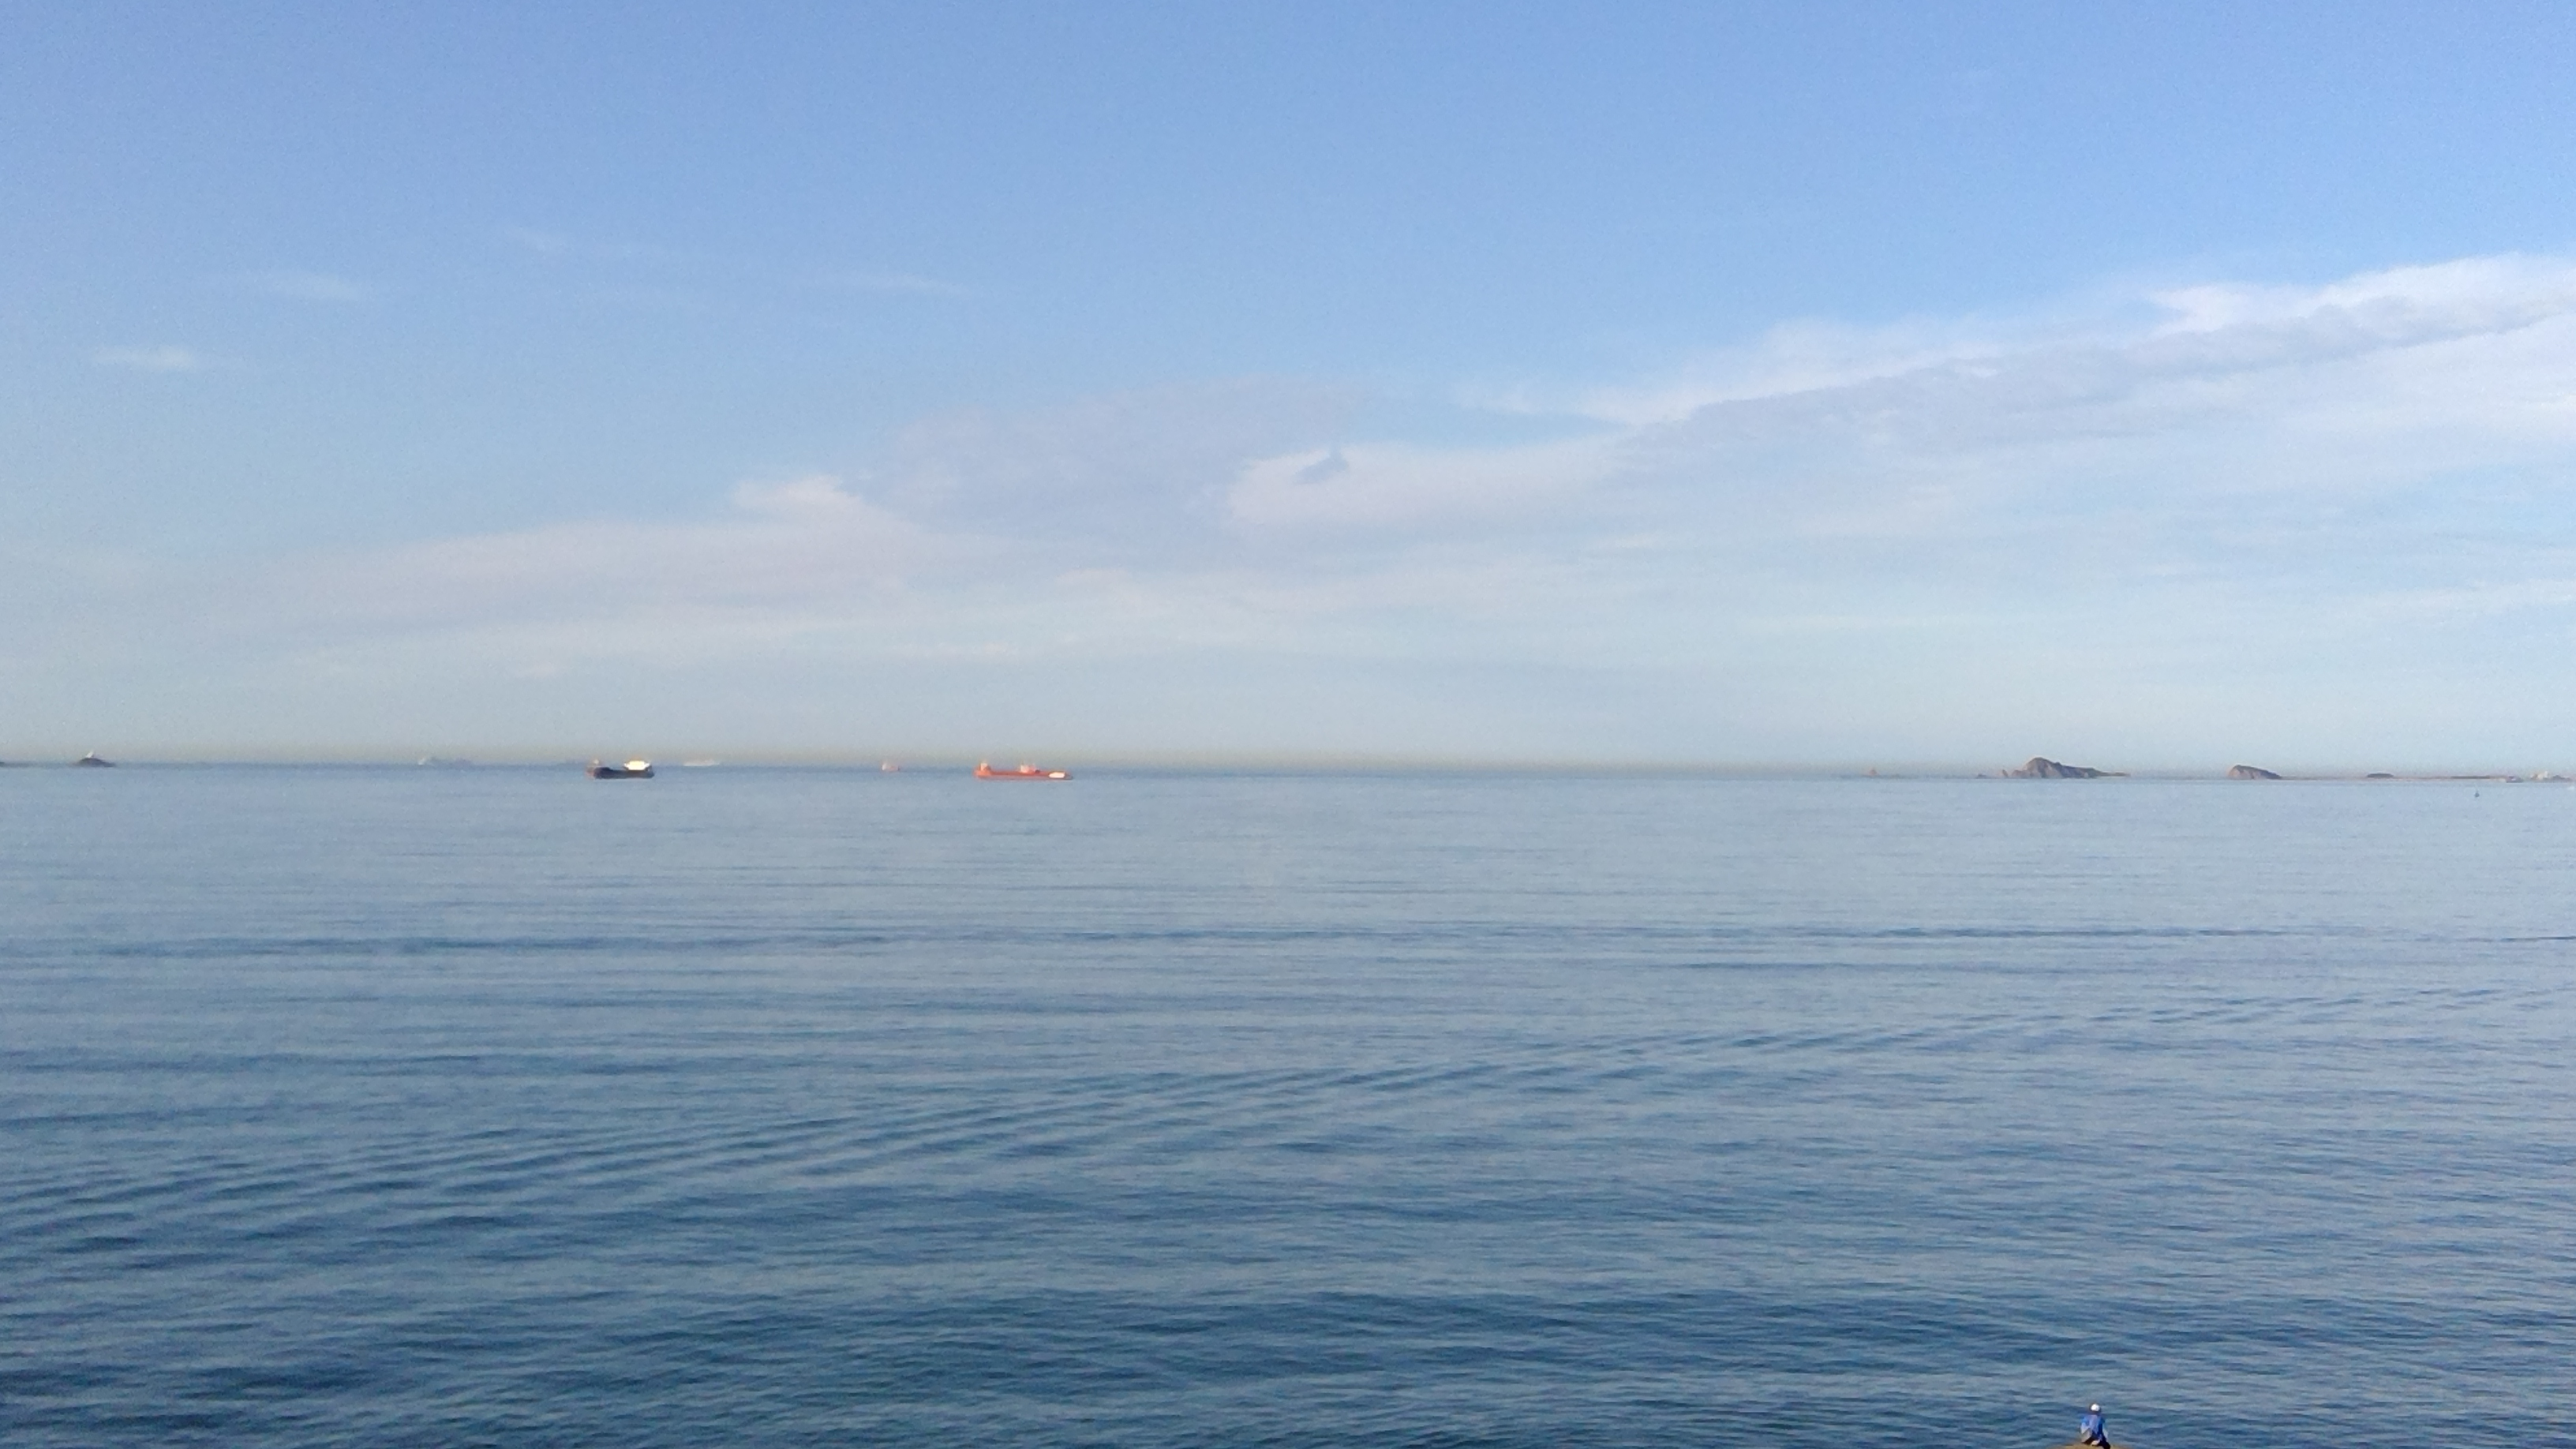boat: (593, 747, 669, 794)
platform: (977, 754, 1077, 791)
rock: (2013, 741, 2105, 784), (2229, 755, 2291, 787)
